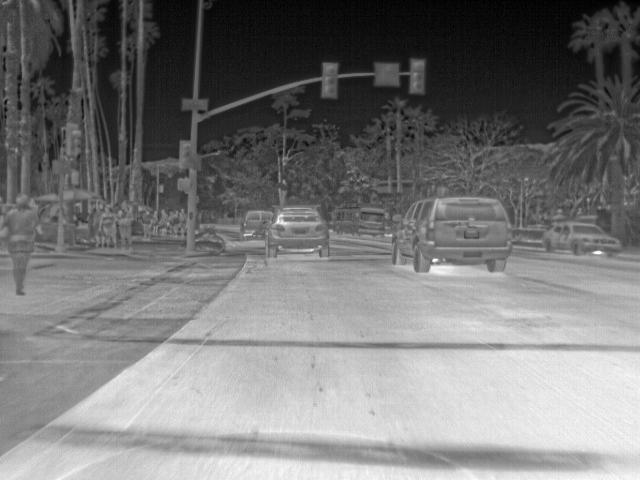car: (399, 194, 516, 274), (269, 204, 334, 260), (541, 219, 623, 260), (242, 208, 275, 237)
person: (4, 193, 42, 296), (116, 197, 134, 253), (100, 204, 120, 250), (141, 207, 155, 240), (155, 208, 168, 237), (176, 207, 189, 236)
